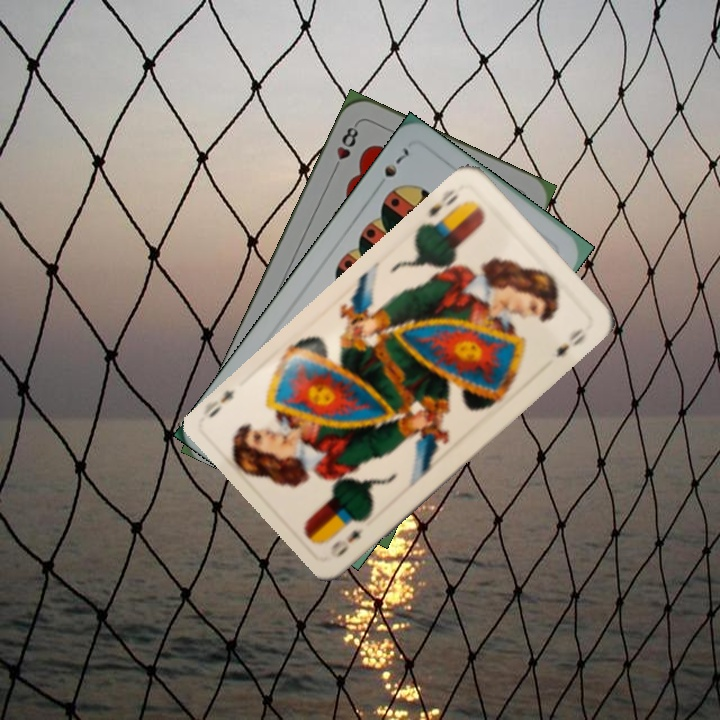EO: (419, 184, 470, 229), (326, 524, 366, 561)
H8: (329, 119, 361, 175)
S7: (380, 143, 412, 180)
